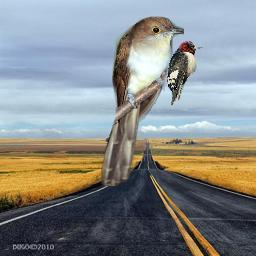Cuckoo: (101, 15, 184, 186)
Woodpecker: (167, 41, 203, 106)
